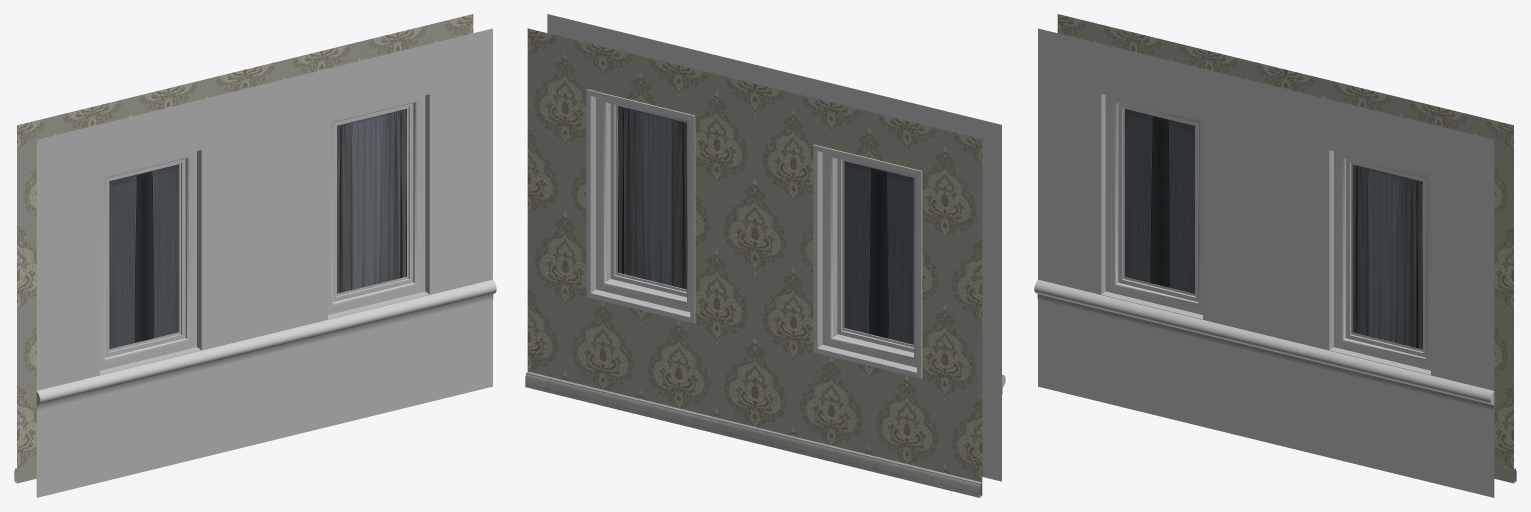
The model's file is House_05_Window_01.fbx.
The picture shows the model from 3 angles, left to right: view 1: azimuth 30°, elevation 25°; view 2: azimuth 150°, elevation 25°; view 3: azimuth 330°, elevation 25°; orthographic projection.
Parts seen in each view (by area): view 1: House_05_Window_01_LOD0; view 2: House_05_Window_01_LOD0; view 3: House_05_Window_01_LOD0.
Boxes of the visible parts, <box> form: House_05_Window_01_LOD0: <box>14,14,496,497</box>; House_05_Window_01_LOD0: <box>525,14,1005,497</box>; House_05_Window_01_LOD0: <box>1034,14,1516,497</box>.
Size of what is drawn, in the model's own units: 400 by 300 by 39.57.
